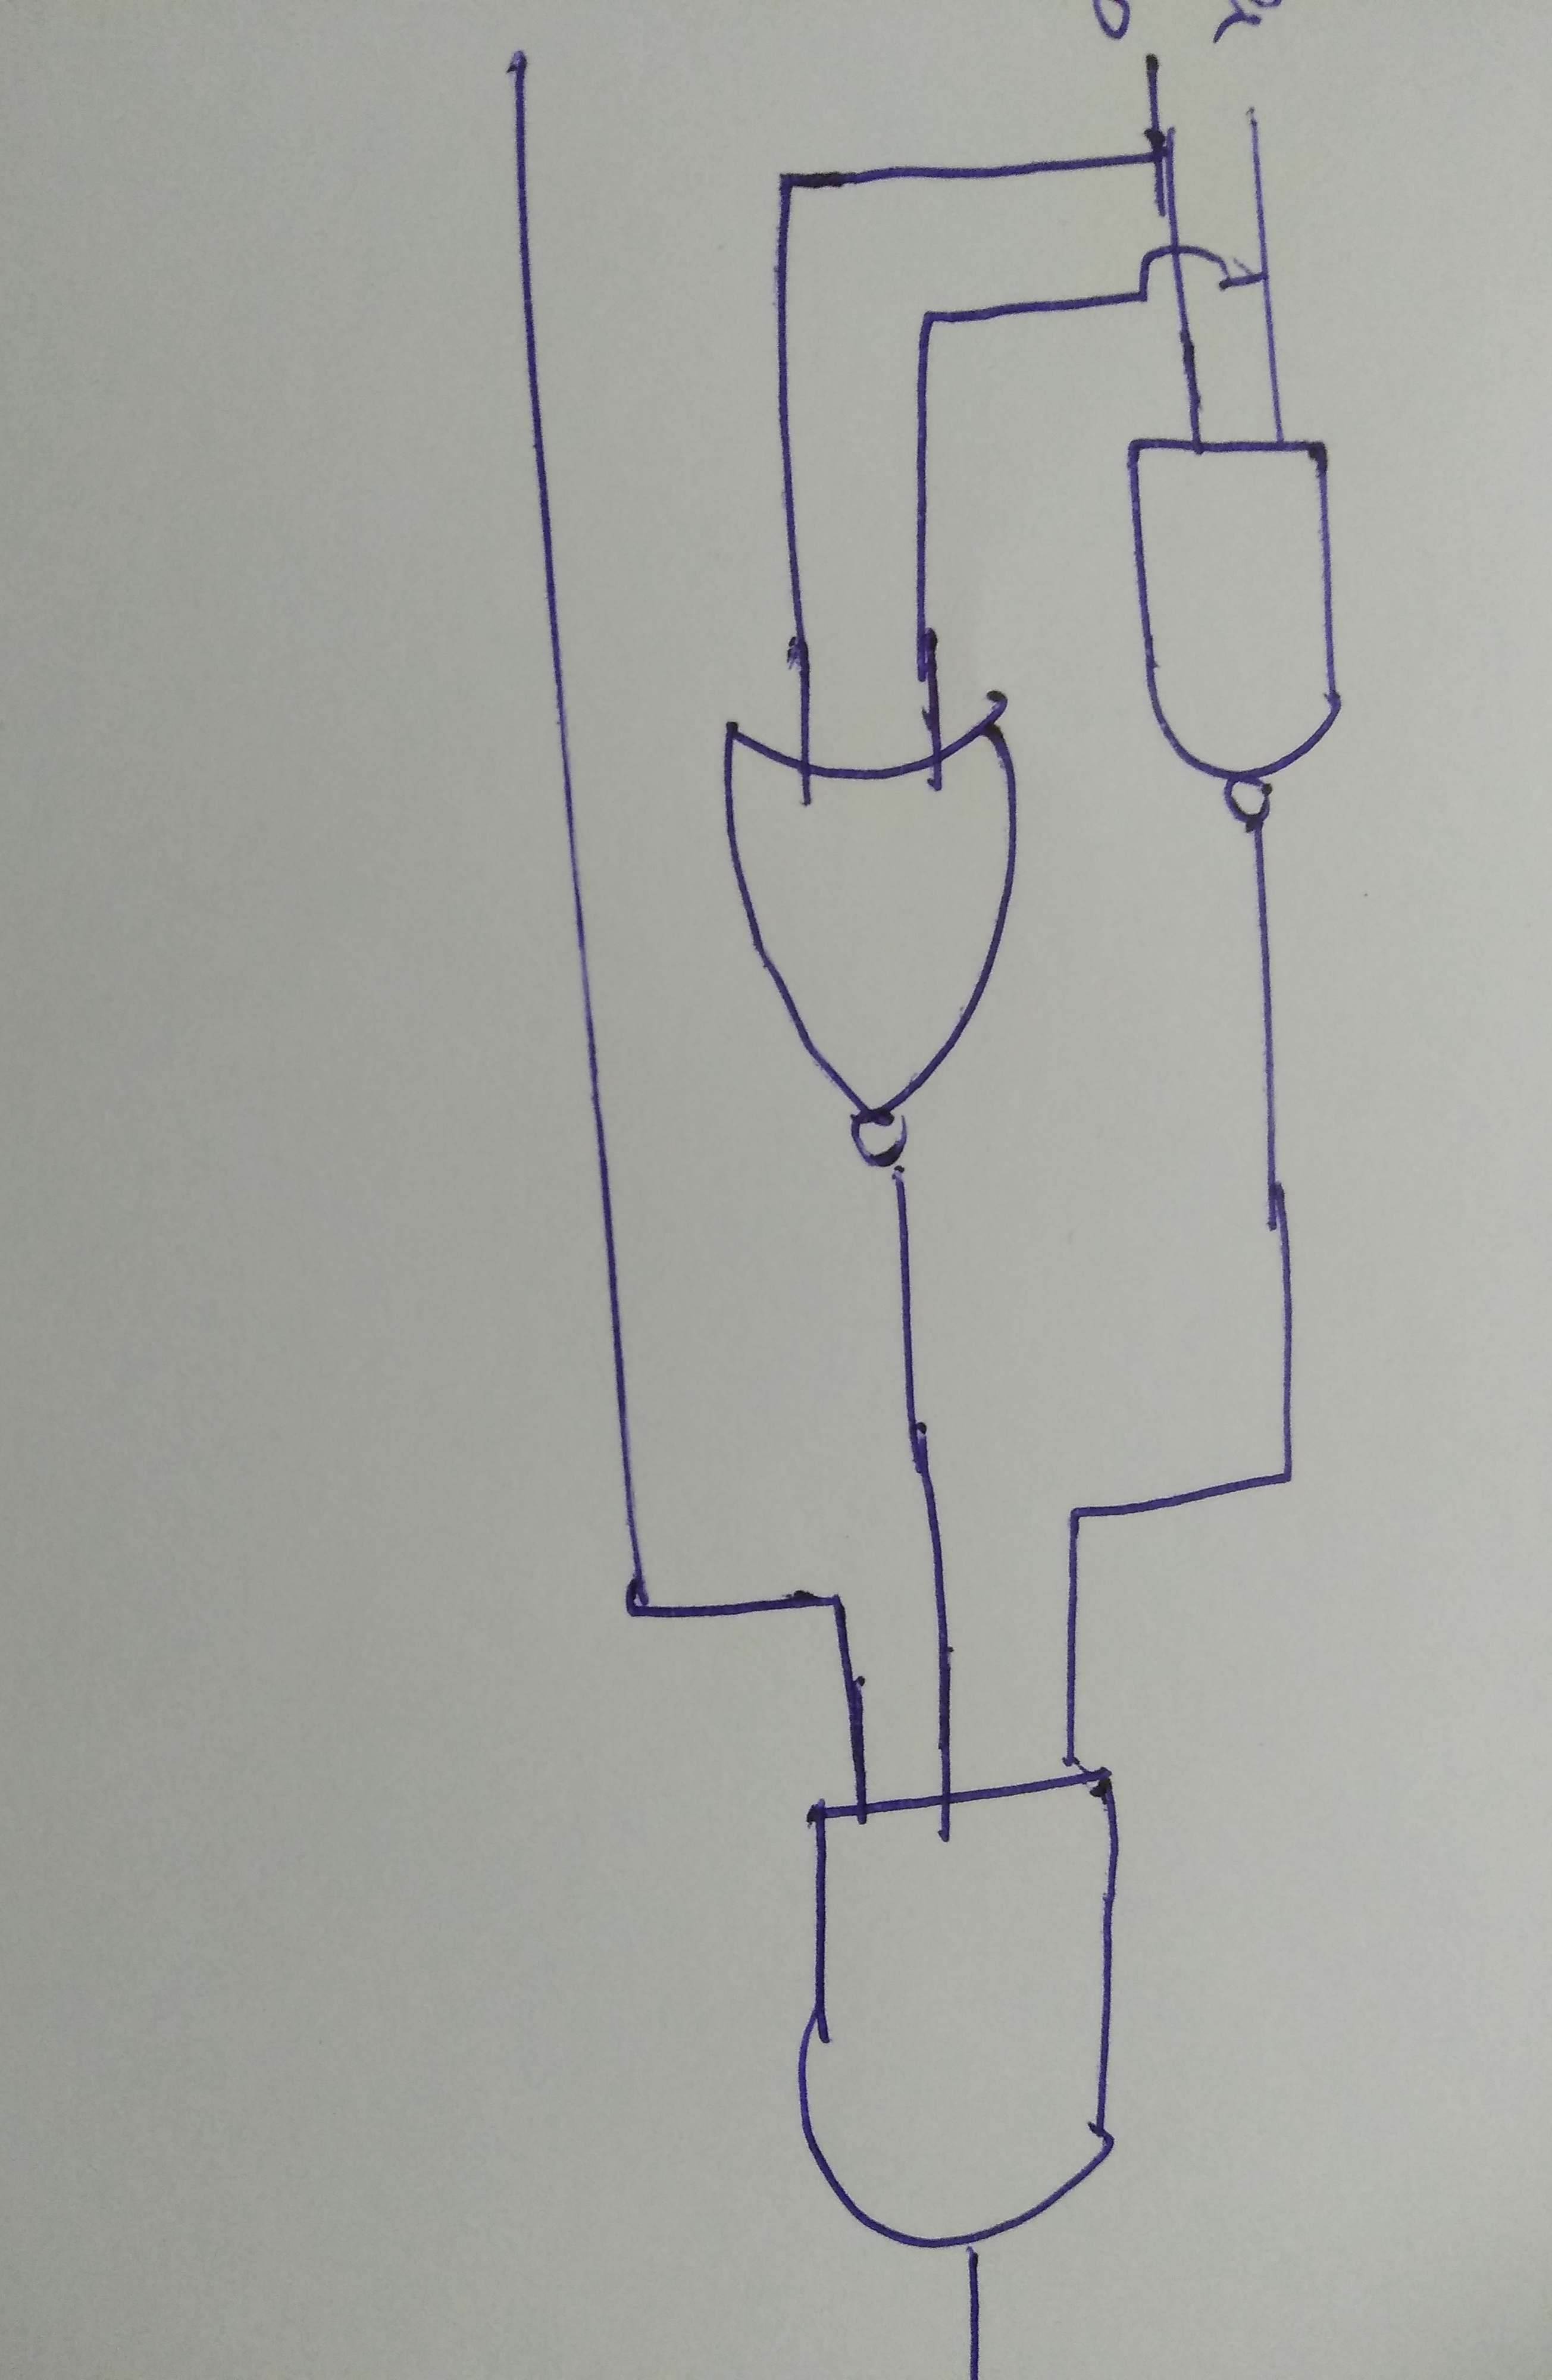and: (749, 1697, 1205, 2311)
nand: (1117, 390, 1377, 866)
nor: (673, 618, 1089, 1230)
